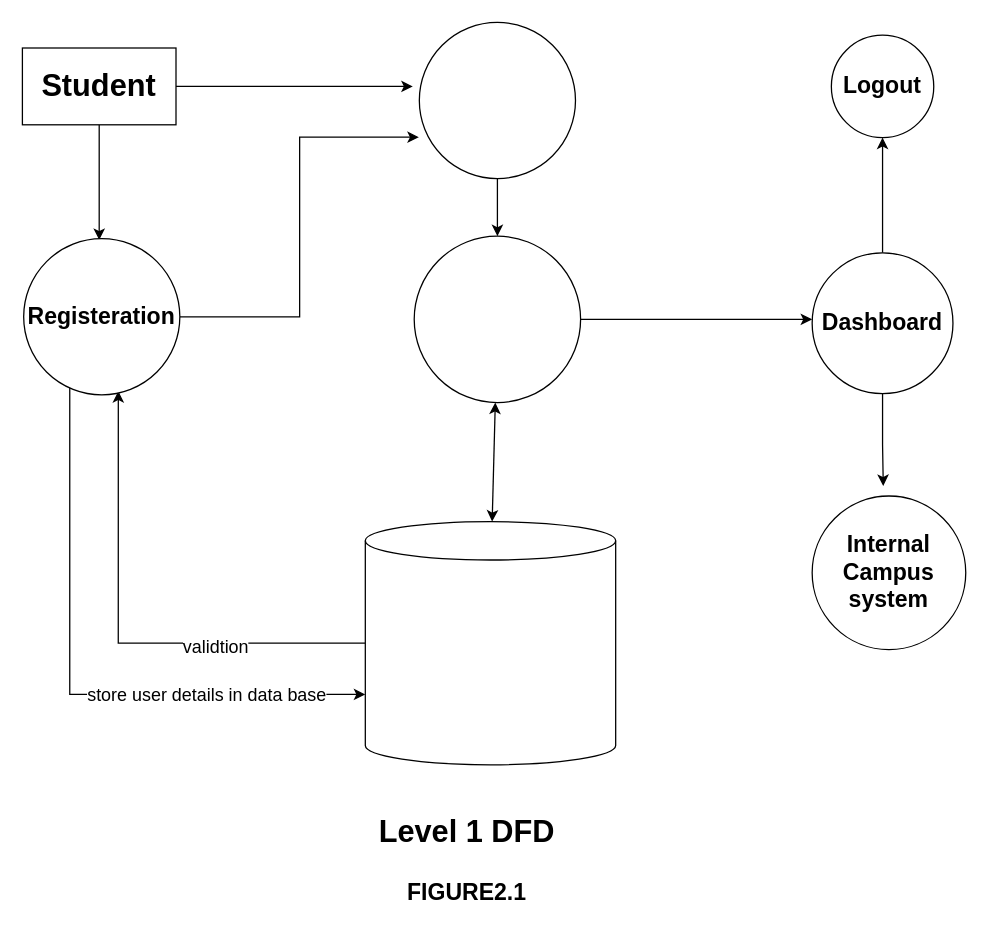
Some shapes in this 988 by 941 pixel diagram are drawn without their labels. Here are the shapes that lost their labels. From the top down, the centre of each, then its label:
At [496,100]: "Login".
At [497,319]: "Authentication".
At [490,642]: "Database".
